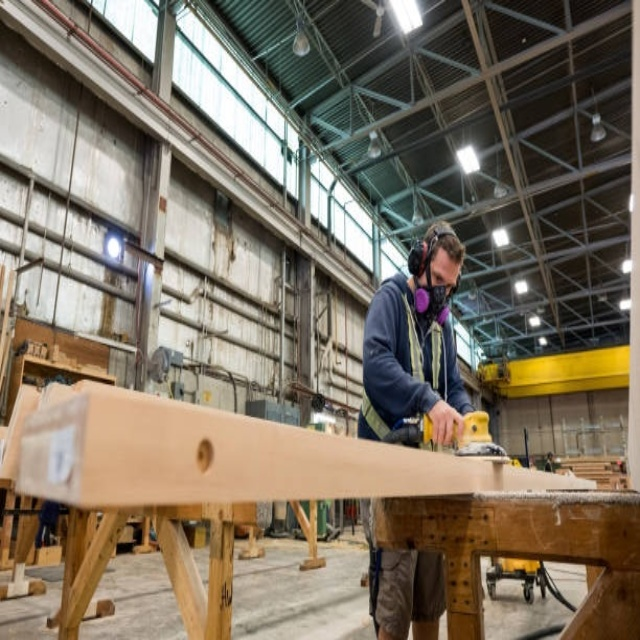Mascara: (414, 281, 454, 329)
Sin_gafas: (432, 257, 458, 295)
Sin_guantes: (427, 392, 470, 449)
